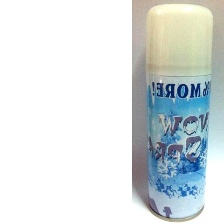aerosol_cans: (143, 0, 216, 224)
